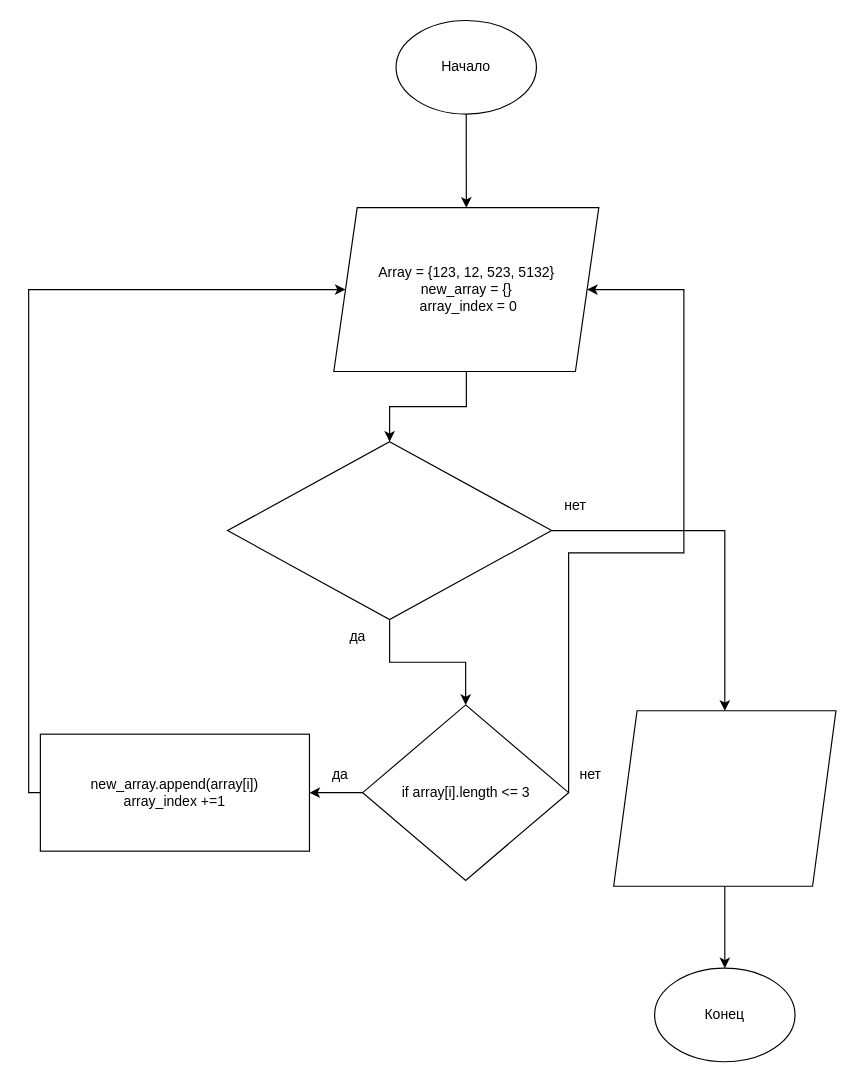
Image size: 856x1082. Some labels were removed from this diagram. Here are the shapes that lost their labels. From the top down, the box of each, then its label:
(226, 441, 552, 620): if array_index < Array.Length
(612, 710, 836, 886): Вывод массива new_array
